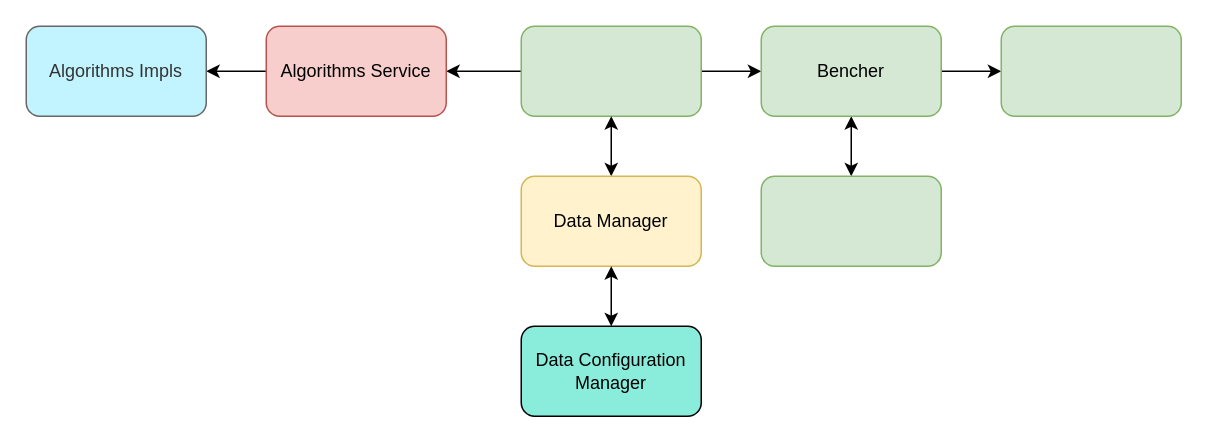
Image size: 1208x443. Some labels were removed from this diagram. The box of each missing label's shape, as (x1, y1, x2, y2) in pixels:
Data Collector: (760, 175, 941, 266)
Experimentator: (520, 25, 701, 116)
Reporter: (1000, 25, 1181, 116)
